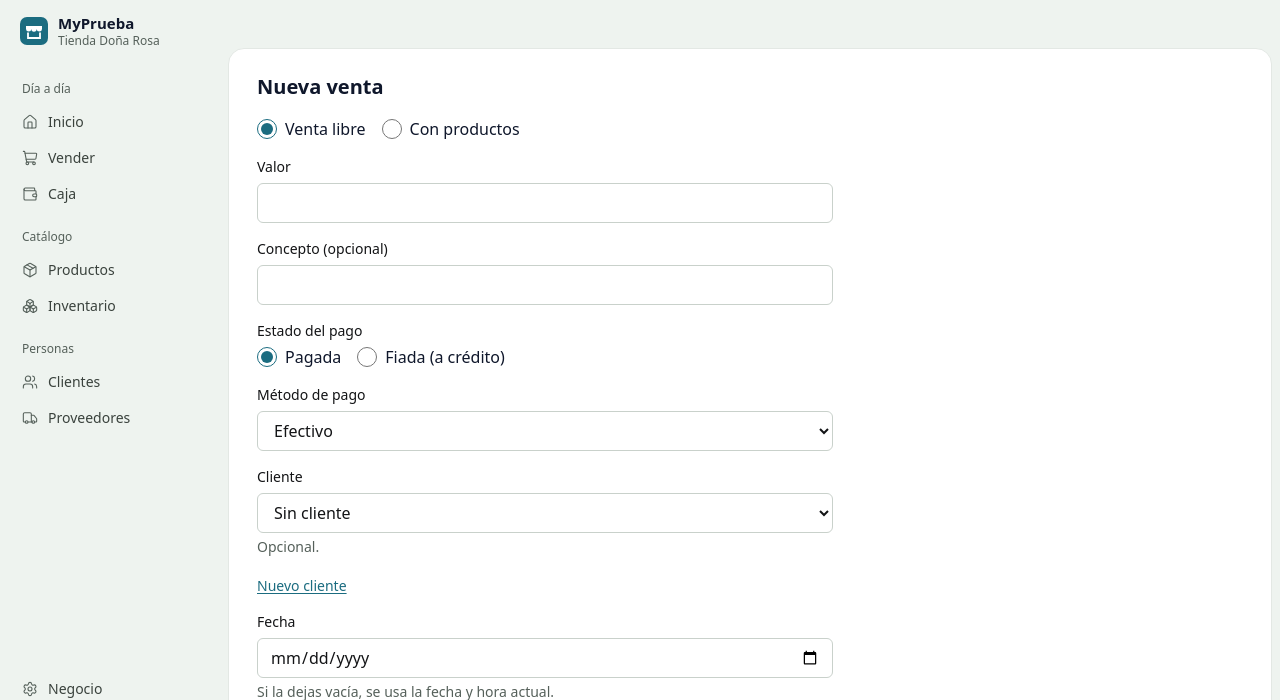
finding products when selling › adds a product by typing its barcode
The image size is (1280, 700).
Click the radio button labelled "Con productos" at (392, 129), box [382, 119, 402, 139]
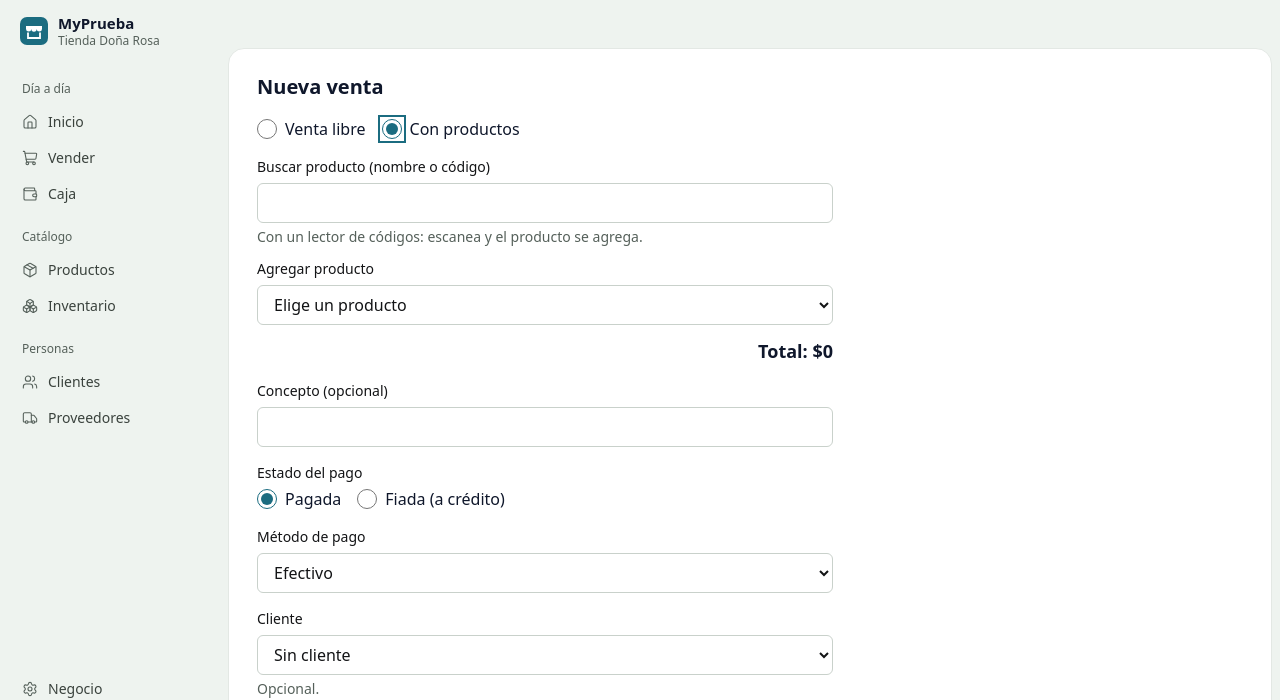
Type "jab" into the search field labelled "Buscar producto (nombre o código)" at (545, 203), box [257, 183, 833, 223]
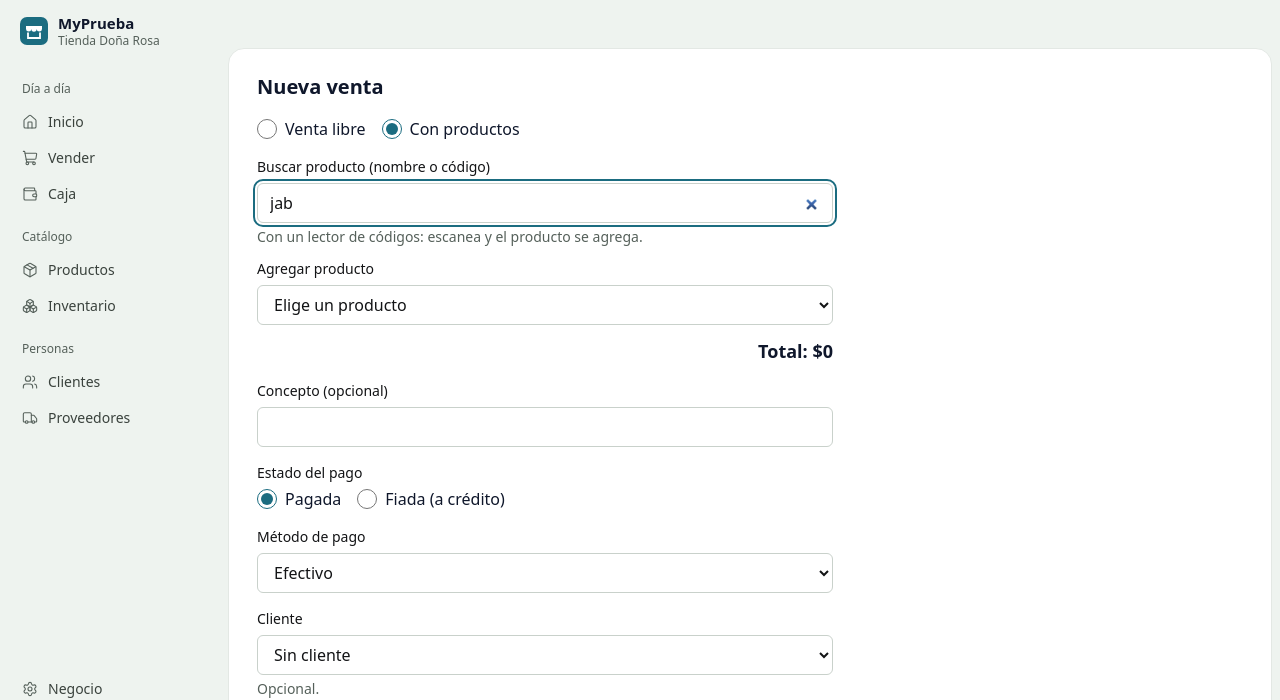
Replace the text in the search field labelled "Buscar producto (nombre o código)" with "7702004003508" at (545, 203), box [257, 183, 833, 223]
Then press Enter
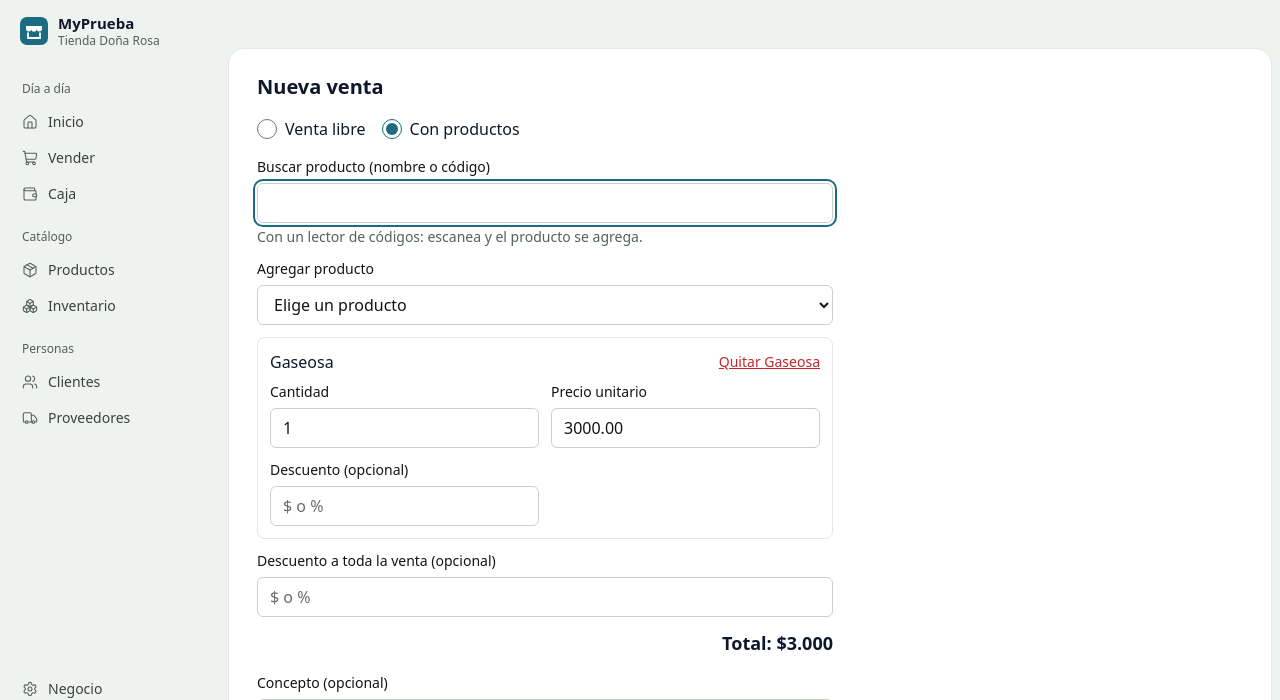
Expected: the field labelled "Cantidad" holds "1", [270, 408, 539, 448]
Expected: the text "Total: $3.000" is shown, [722, 631, 833, 655]
